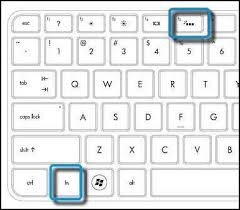keyboard: (4, 0, 240, 210)
